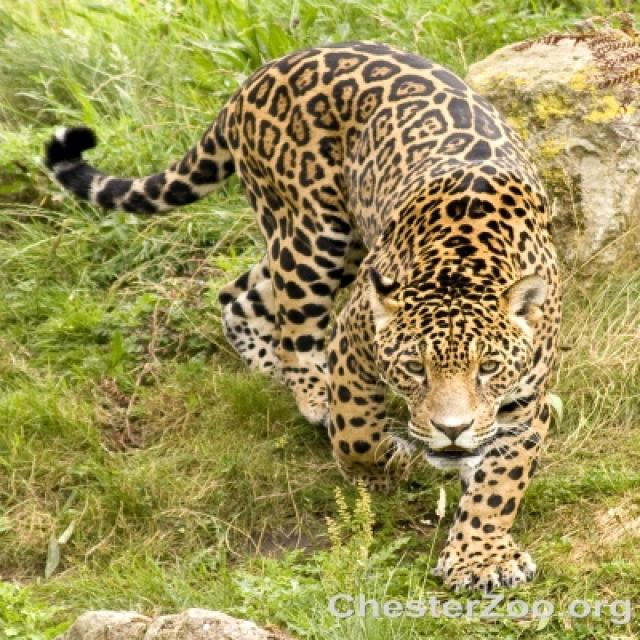Jaguar: (43, 42, 563, 594)
